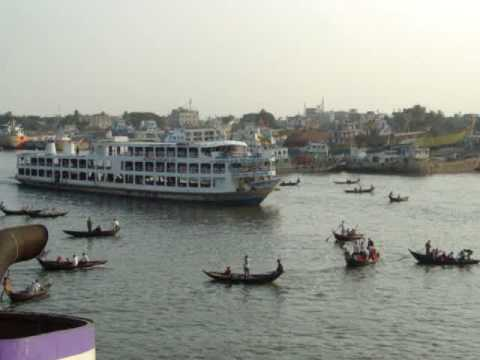boat: (409, 249, 480, 266), (2, 279, 56, 301), (36, 256, 106, 271), (202, 270, 289, 282), (62, 225, 121, 238), (344, 247, 381, 265), (25, 209, 70, 218), (1, 207, 42, 214), (332, 232, 364, 240), (343, 187, 375, 194), (334, 178, 361, 184), (280, 180, 300, 187), (389, 195, 410, 201)
launch: (16, 128, 279, 206)
